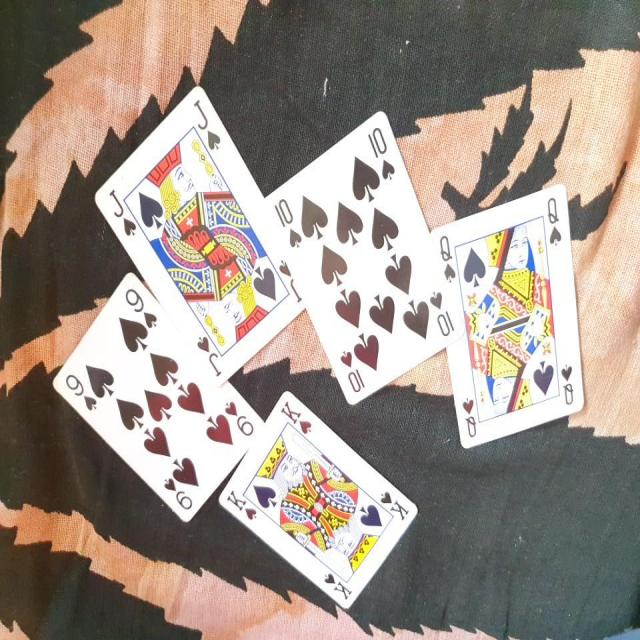10 Spades: (255, 102, 470, 409)
9 Spades: (48, 267, 269, 537)
J Spades: (90, 80, 310, 367)
K Spades: (216, 393, 424, 612)
Q Spades: (429, 177, 590, 451)
